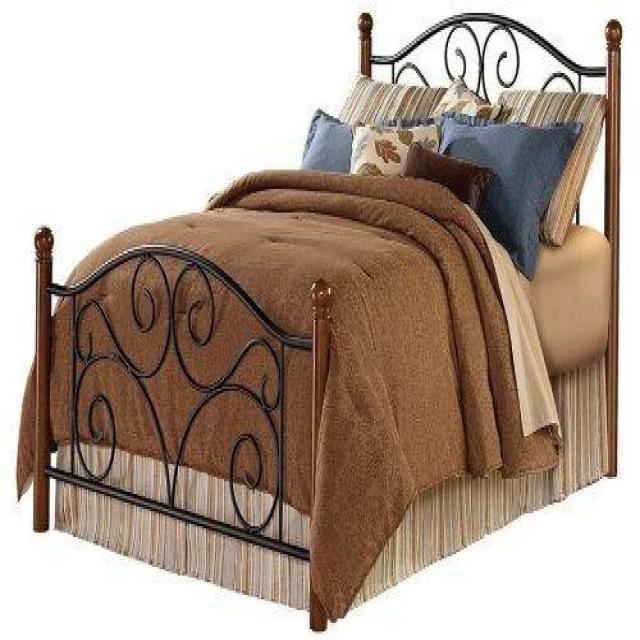bed: (13, 8, 622, 638)
